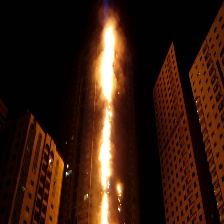fire: (97, 19, 125, 224)
